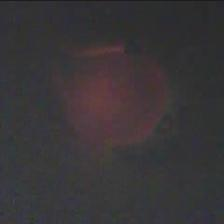fertile: (57, 50, 176, 150)
